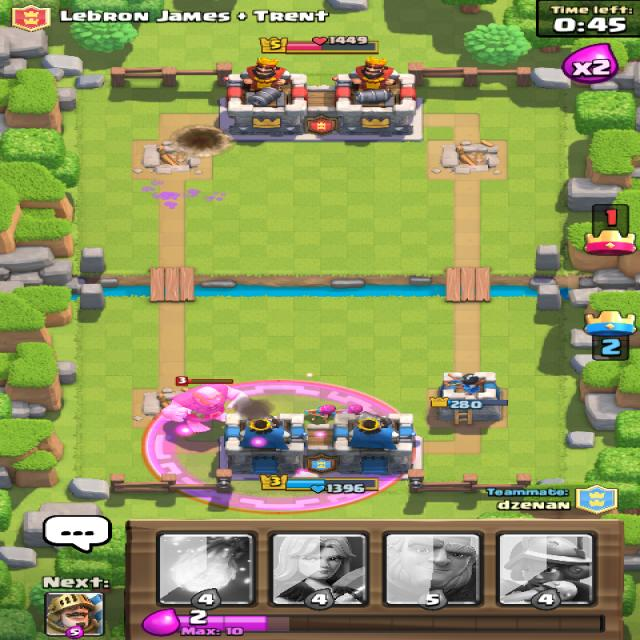Enemy-Giant: (159, 374, 253, 434)
Player-Archer: (299, 404, 336, 418), (331, 403, 364, 416)
